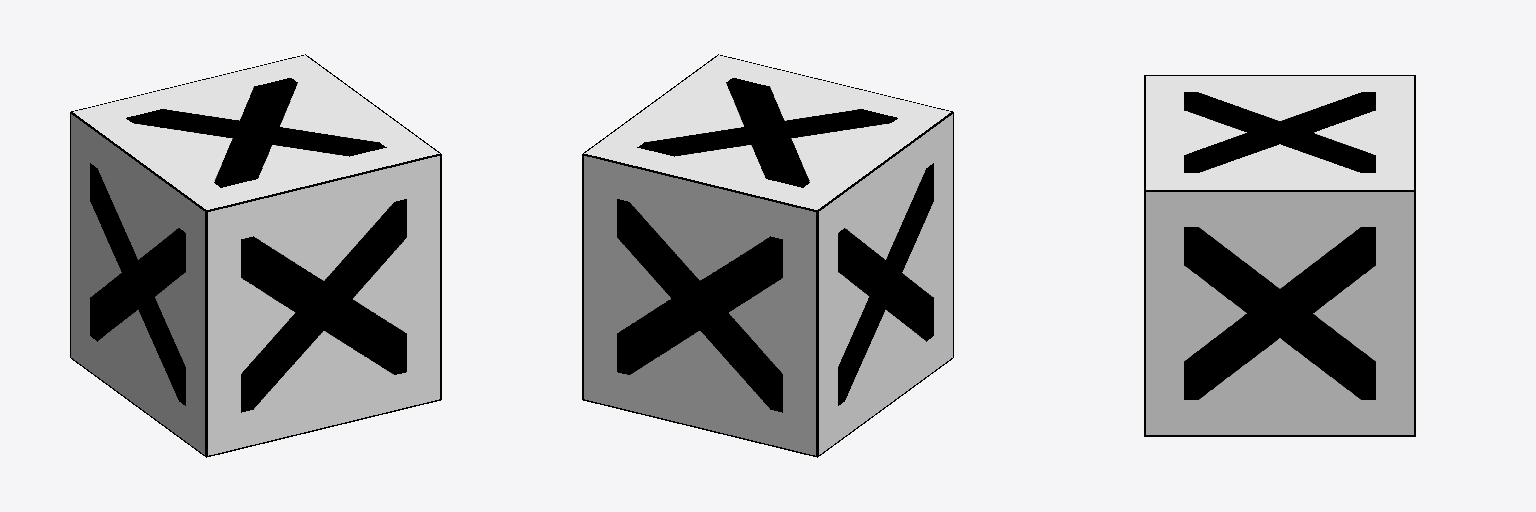
The picture shows the model from 3 angles: view 1: azimuth 30°, elevation 25°; view 2: azimuth 150°, elevation 25°; view 3: azimuth 270°, elevation 25°; orthographic projection.
Parts seen in each view (by area): view 1: Cube; view 2: Cube; view 3: Cube.
Boxes of the visible parts, <box> form: Cube: <box>70,54,441,457</box>; Cube: <box>582,54,953,457</box>; Cube: <box>1144,75,1415,436</box>.
Bounding box in the file's own units: 2 × 2 × 2.
1 materials, 1 textured.